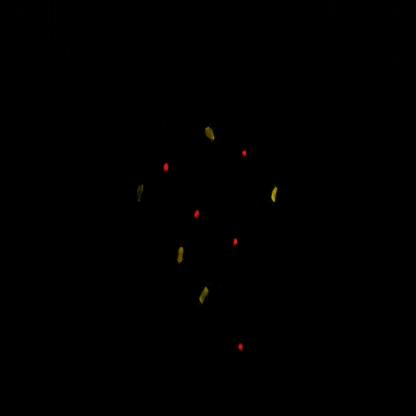PET: (235, 139, 256, 172), (158, 155, 178, 187), (229, 224, 245, 258), (189, 201, 207, 230), (234, 332, 249, 365)
PP: (129, 173, 154, 215), (167, 240, 195, 274), (266, 171, 285, 218), (194, 278, 216, 315), (203, 122, 223, 152)
